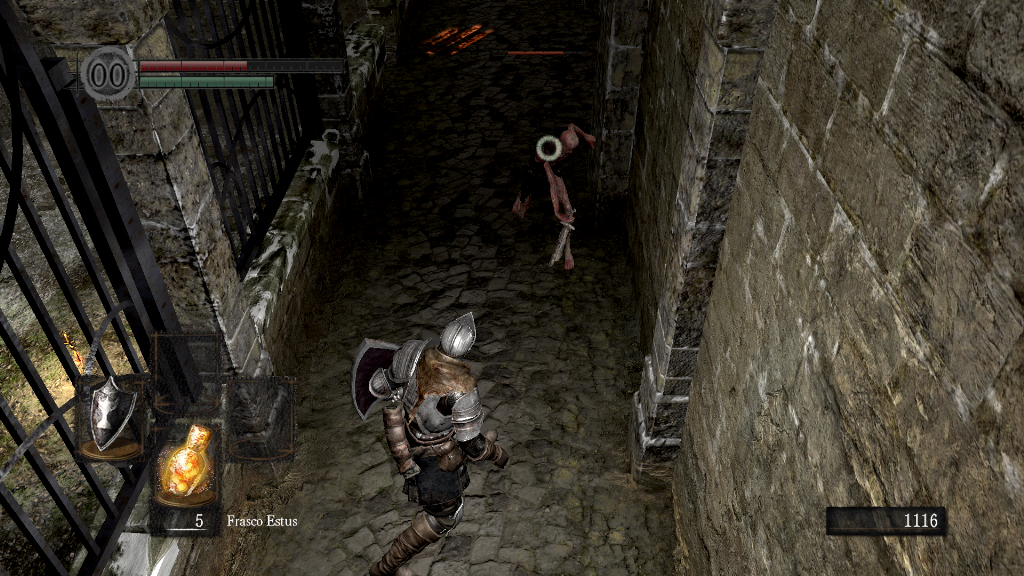health: (138, 58, 343, 71)
hollow: (511, 112, 595, 278)
humanity: (80, 45, 136, 102)
player: (347, 309, 510, 576)
souls: (825, 506, 945, 536)
stamina: (138, 74, 274, 88)
